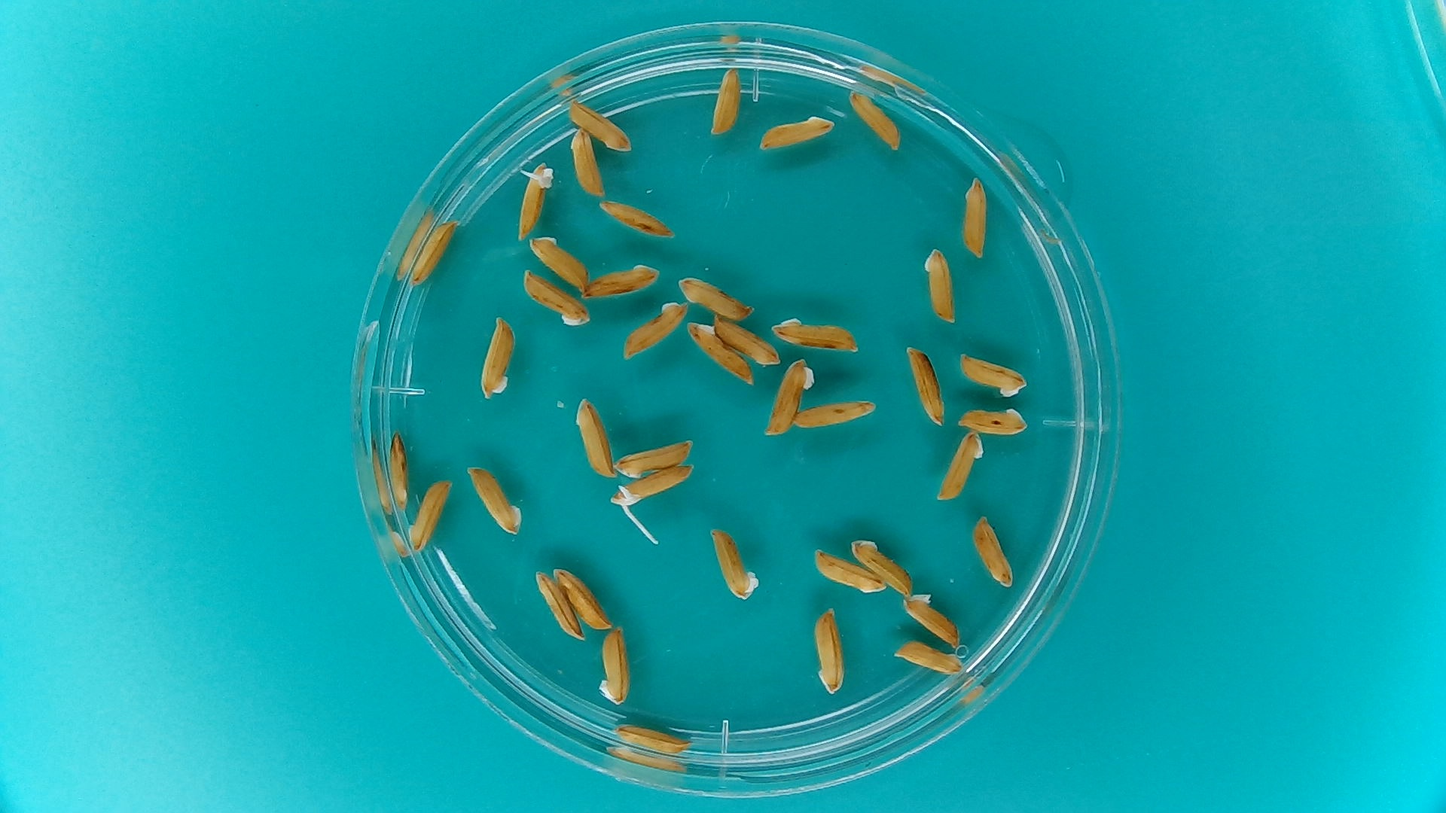no: (685, 319, 752, 388), (620, 298, 688, 362), (520, 268, 593, 327), (465, 464, 523, 537), (762, 358, 813, 439), (607, 437, 704, 479), (707, 525, 759, 603), (564, 98, 635, 154), (850, 536, 914, 596), (845, 87, 904, 152), (810, 604, 850, 699), (903, 343, 947, 429), (899, 593, 963, 652), (528, 233, 592, 292), (553, 565, 610, 631), (533, 568, 584, 641), (572, 394, 615, 480), (406, 477, 454, 554), (969, 513, 1017, 590), (935, 428, 984, 503), (770, 314, 861, 354), (676, 275, 755, 321), (711, 316, 781, 367), (755, 112, 837, 154), (409, 218, 459, 286), (477, 315, 517, 400), (956, 351, 1028, 398), (812, 550, 886, 595), (595, 198, 676, 239), (578, 261, 663, 299), (922, 245, 959, 328), (790, 396, 879, 430), (596, 623, 632, 707), (707, 65, 745, 138), (568, 126, 606, 199), (959, 175, 991, 261), (612, 720, 692, 754), (890, 639, 965, 675), (955, 406, 1029, 437), (388, 428, 412, 512)
yes: (612, 461, 698, 510), (514, 162, 554, 240)
